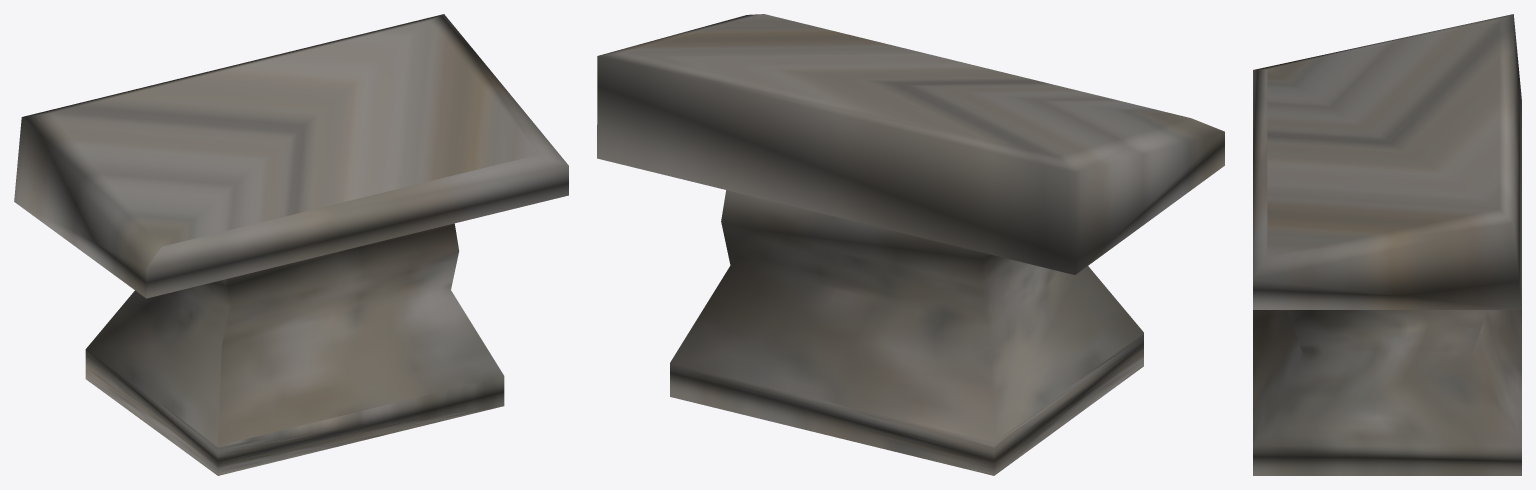
Rendered from pedestal-s.glb.
The picture shows the model from 3 angles, left to right: view 1: azimuth 30°, elevation 25°; view 2: azimuth 150°, elevation 25°; view 3: azimuth 270°, elevation 25°; orthographic projection. The views are drawn at different scales.
Parts seen in each view (by area): view 1: pedestal; view 2: pedestal; view 3: pedestal.
Boxes of the visible parts, <box> form: pedestal: <box>14,14,568,475</box>; pedestal: <box>597,14,1224,475</box>; pedestal: <box>1253,14,1521,475</box>.
Size of the model in its own units: 1.26 by 0.805 by 0.6769.
1 material, 1 textured.
